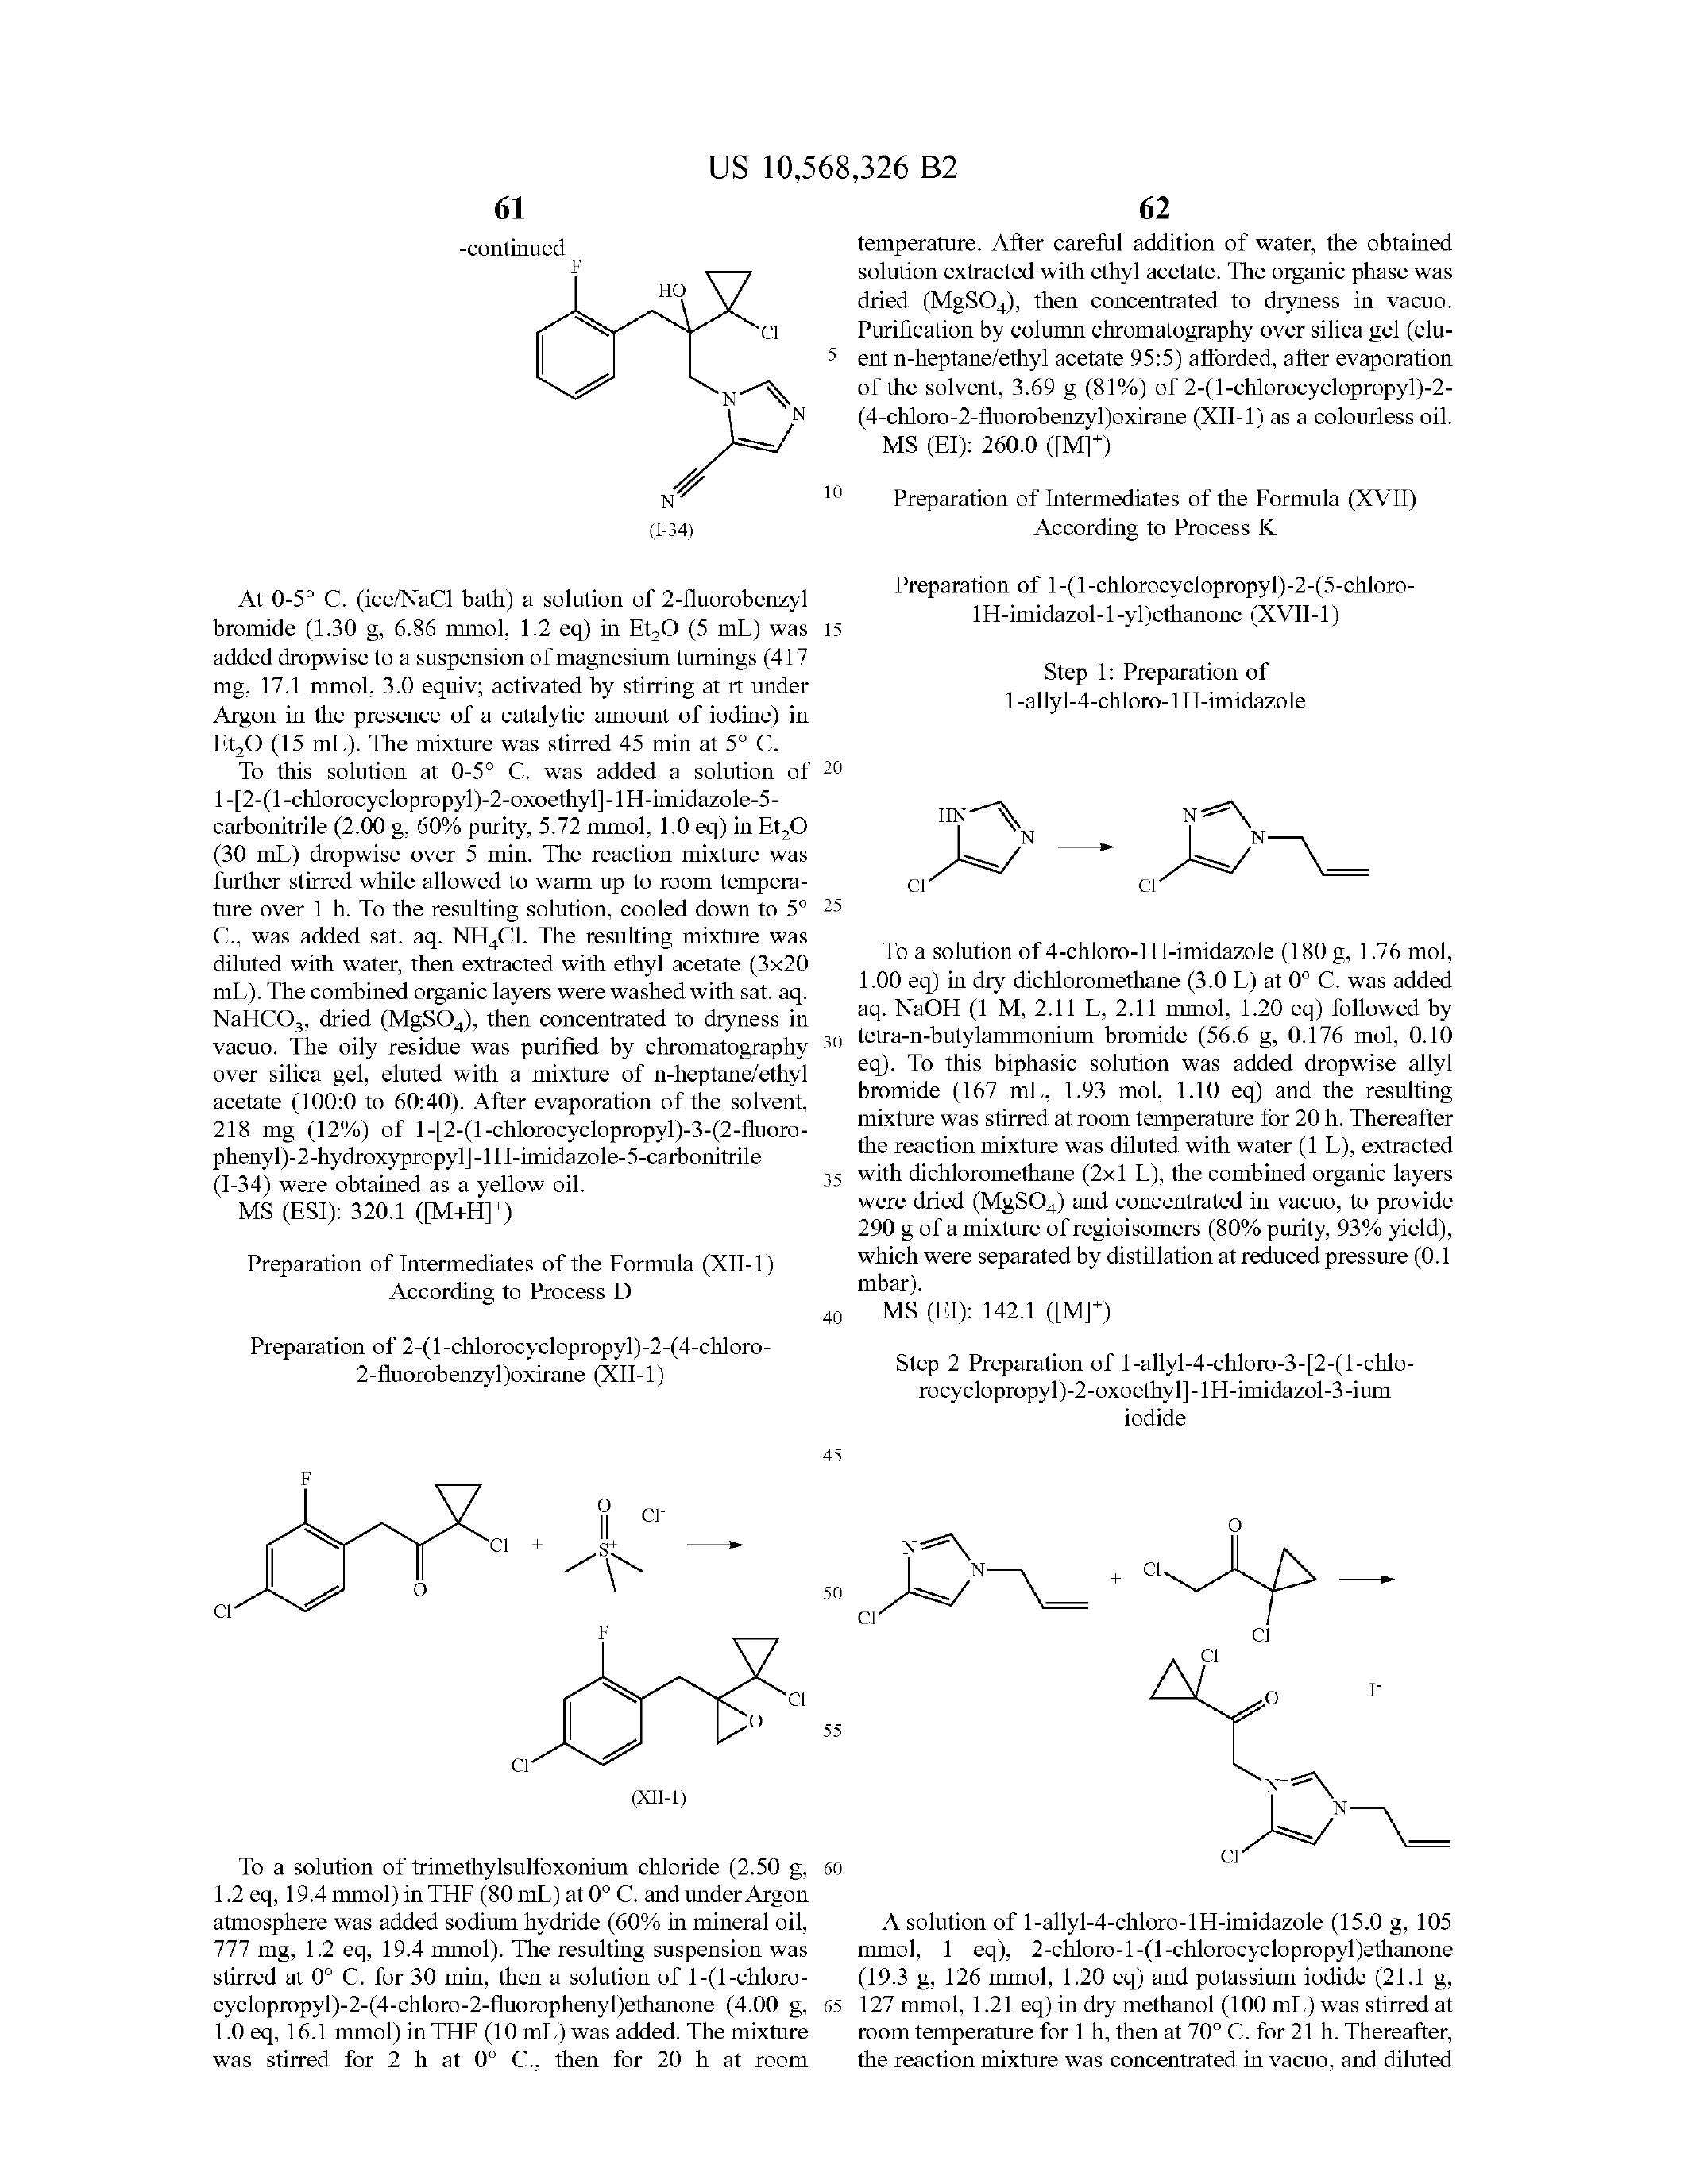reactions: (830, 1452, 1456, 1876), (193, 1427, 803, 1826), (496, 248, 805, 567), (887, 730, 1392, 911)
